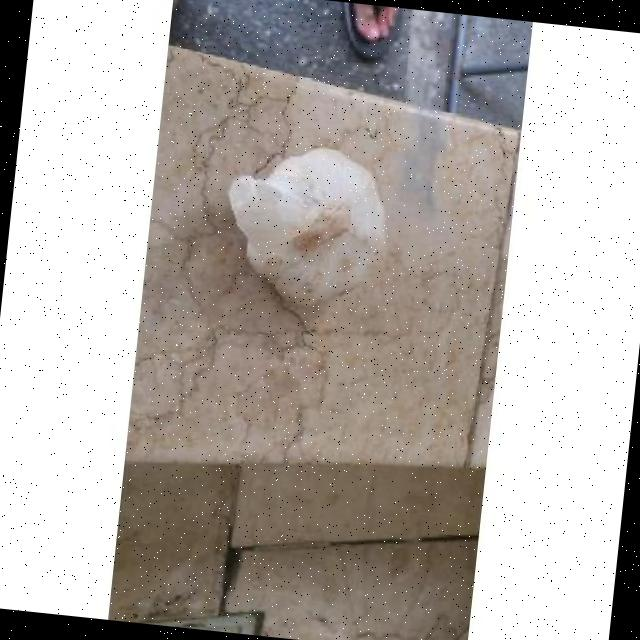garlic: (227, 147, 384, 304)
